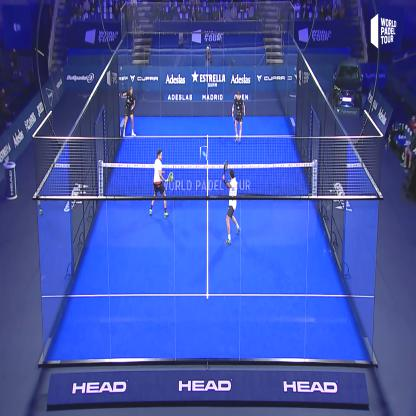ball: (201, 146, 209, 161)
